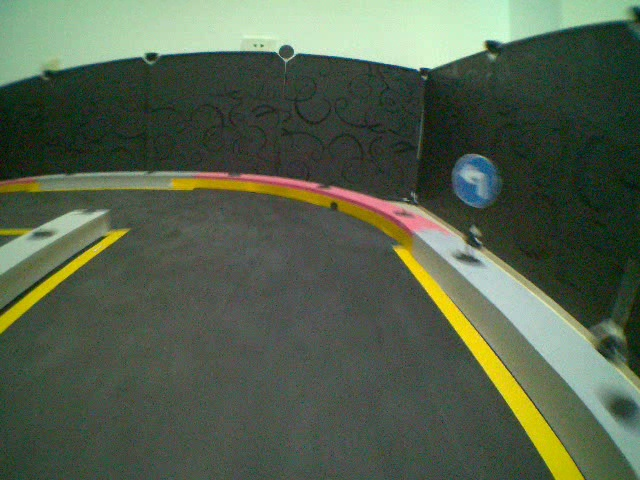turn: (450, 150, 500, 204)
